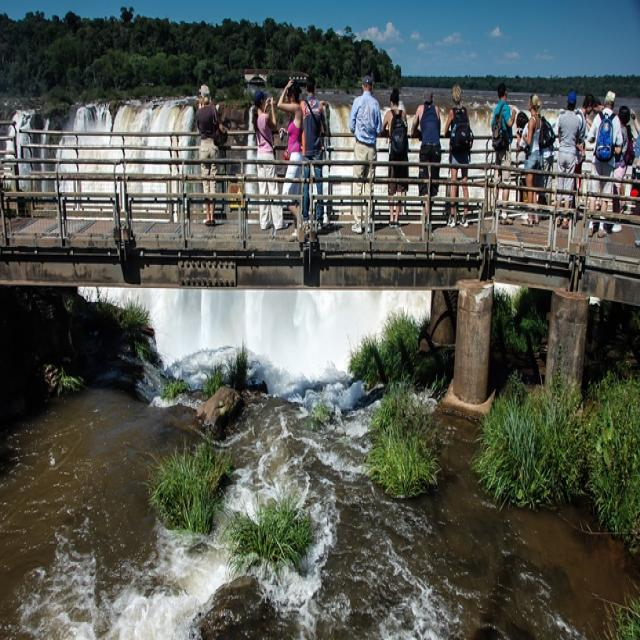body: (348, 73, 385, 237), (584, 87, 624, 238), (250, 86, 290, 230), (296, 70, 328, 233), (519, 90, 556, 228), (409, 84, 443, 234), (442, 79, 476, 229), (514, 108, 556, 222), (194, 82, 226, 229), (276, 78, 304, 242), (380, 84, 410, 230), (488, 80, 518, 226), (552, 87, 582, 233), (571, 92, 597, 222), (610, 104, 636, 234), (629, 103, 640, 250), (591, 96, 604, 113)
